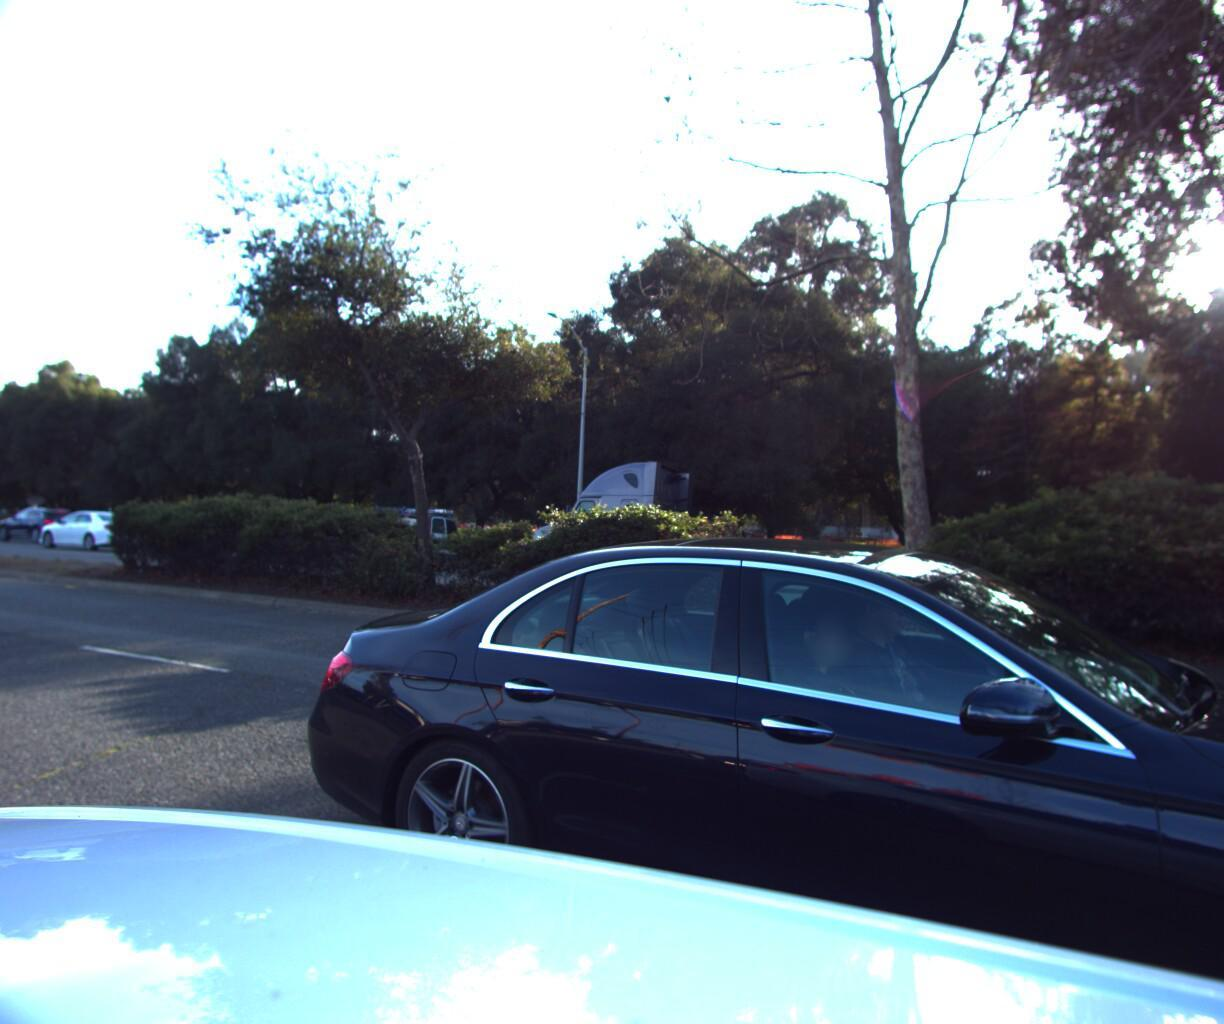car: (282, 516, 1224, 1024), (274, 505, 441, 573), (316, 505, 465, 571), (27, 510, 154, 554), (0, 508, 87, 547)
truck: (512, 456, 783, 591)
